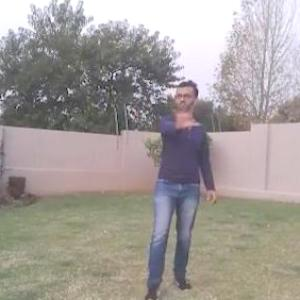follow_hand: (171, 87, 203, 131)
